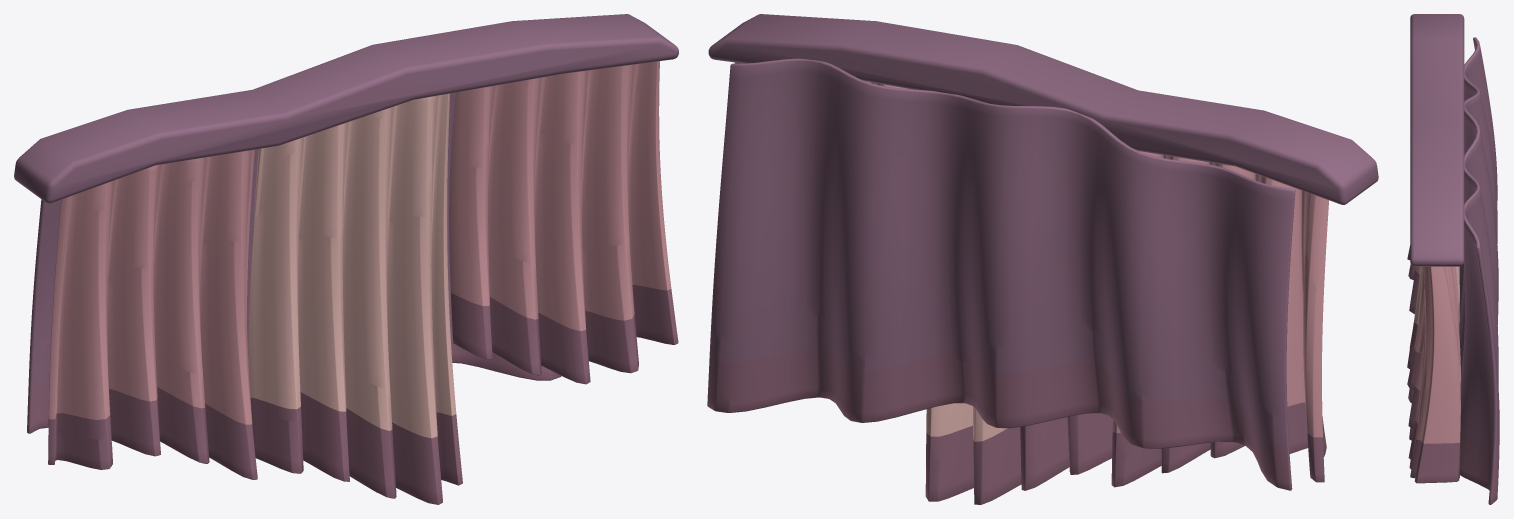
Rendered from loomfall-veil.glb.
3 views of the same model, side by side, from view 1: azimuth 30°, elevation 25°; view 2: azimuth 150°, elevation 25°; view 3: azimuth 270°, elevation 25° (orthographic). The views are drawn at different scales.
Visible parts, largest first — view 1: long_quartz_drape, right_rose_drape, left_rose_drape, continuous_warp_clamp, rear_shadow_veil; view 2: rear_shadow_veil, continuous_warp_clamp, left_rose_drape, long_quartz_drape; view 3: rear_shadow_veil, continuous_warp_clamp, right_rose_drape, long_quartz_drape, left_rose_drape.
Part boxes in pixels (x1=…): long_quartz_drape: x1=248, y1=93, x2=462, y2=504; right_rose_drape: x1=449, y1=61, x2=678, y2=384; left_rose_drape: x1=48, y1=149, x2=257, y2=479; continuous_warp_clamp: x1=14, y1=14, x2=678, y2=203; rear_shadow_veil: x1=27, y1=92, x2=561, y2=433; rear_shadow_veil: x1=707, y1=58, x2=1295, y2=490; continuous_warp_clamp: x1=708, y1=14, x2=1378, y2=204; left_rose_drape: x1=1111, y1=151, x2=1328, y2=487; long_quartz_drape: x1=925, y1=403, x2=1112, y2=504; rear_shadow_veil: x1=1459, y1=37, x2=1499, y2=504; continuous_warp_clamp: x1=1410, y1=14, x2=1464, y2=266; right_rose_drape: x1=1407, y1=266, x2=1460, y2=483; long_quartz_drape: x1=1407, y1=266, x2=1460, y2=477; left_rose_drape: x1=1407, y1=245, x2=1420, y2=347.
Bounding box in the file's own units: 254 × 170 × 42.88.
